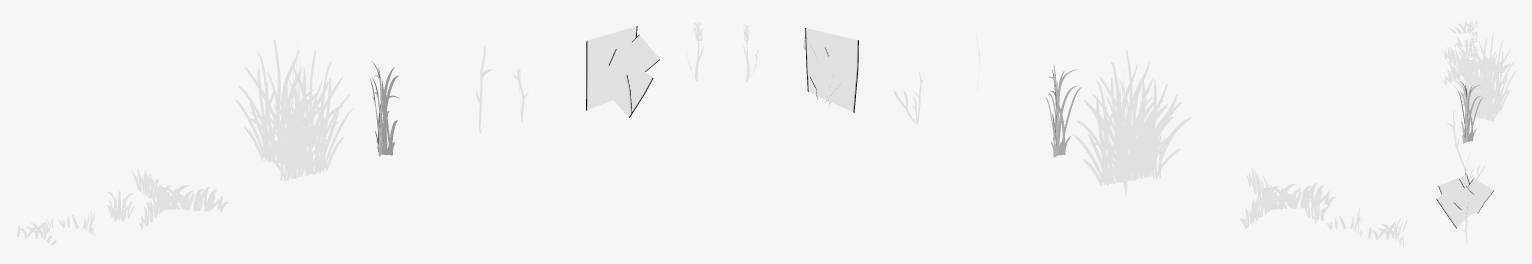
The model's file is Nature.fbx.
The picture shows the model from 3 angles, left to right: view 1: azimuth 30°, elevation 25°; view 2: azimuth 150°, elevation 25°; view 3: azimuth 270°, elevation 25°; orthographic projection. The views are drawn at different scales.
Visible parts, largest first — view 1: GrassBigPlant, Bosje, GrassBigSpot, TallPlant, GrassSmollBit, GrassMediumBit; view 2: GrassBigPlant, Bosje, GrassBigSpot, TallPlant, GrassMediumBit, GrassSmollBit; view 3: GrassBigPlant, Bosje, GrassBigSpot, TallPlant, GrassMediumBit, StickTall, GrassSmollBit, GrassBit, StickShort, SmallPlant.
Boxes of the visible parts, x1=… form: GrassBigPlant: x1=234, y1=39, x2=353, y2=181; Bosje: x1=586, y1=26, x2=659, y2=117; GrassBigSpot: x1=132, y1=169, x2=228, y2=230; TallPlant: x1=370, y1=61, x2=399, y2=156; GrassSmollBit: x1=107, y1=191, x2=134, y2=221; GrassMediumBit: x1=17, y1=217, x2=56, y2=245; GrassBigPlant: x1=1073, y1=50, x2=1190, y2=197; Bosje: x1=803, y1=28, x2=858, y2=112; GrassBigSpot: x1=1240, y1=167, x2=1335, y2=228; TallPlant: x1=1045, y1=65, x2=1081, y2=157; GrassMediumBit: x1=1368, y1=218, x2=1407, y2=247; GrassSmollBit: x1=1303, y1=191, x2=1330, y2=224; GrassBigPlant: x1=1447, y1=33, x2=1516, y2=121; Bosje: x1=1436, y1=165, x2=1494, y2=228; GrassBigSpot: x1=1442, y1=46, x2=1510, y2=85; TallPlant: x1=1458, y1=81, x2=1483, y2=143; GrassMediumBit: x1=1449, y1=20, x2=1477, y2=38; StickTall: x1=1447, y1=109, x2=1465, y2=171; GrassSmollBit: x1=1458, y1=39, x2=1477, y2=58; GrassBit: x1=1454, y1=36, x2=1477, y2=49; StickShort: x1=1466, y1=152, x2=1485, y2=182; SmallPlant: x1=1463, y1=206, x2=1468, y2=244.
Bounding box in the file's own units: 423 × 85.14 × 66.32.
